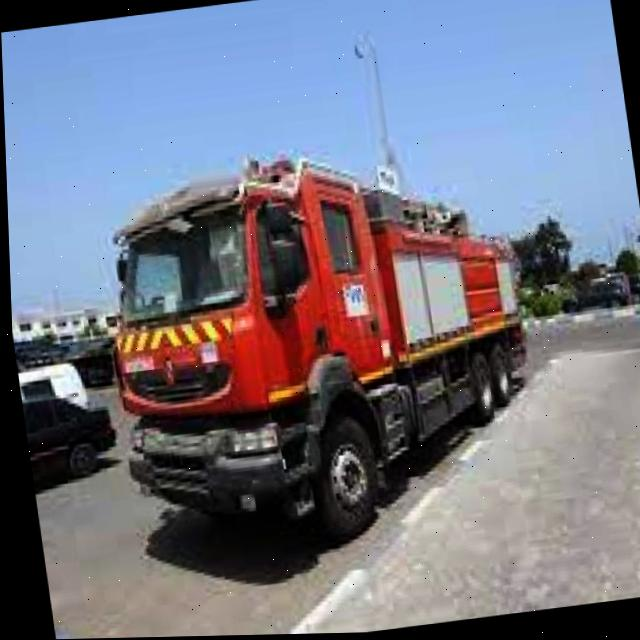emergency: (67, 142, 558, 567)
